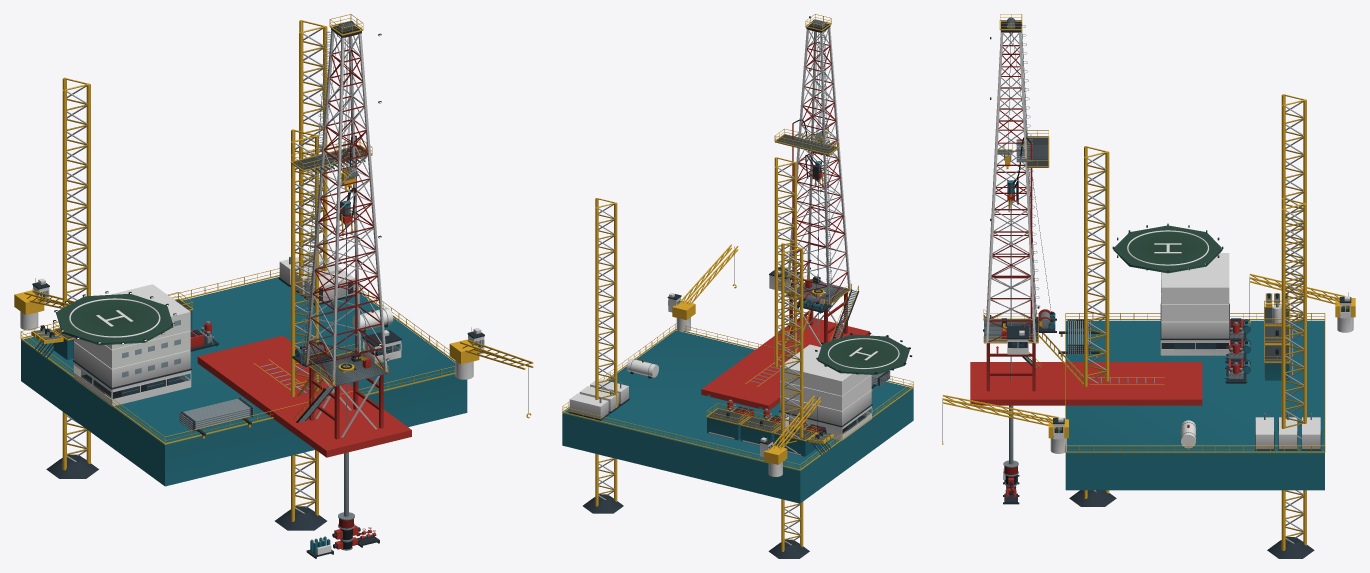
Rendered from jackup_lodh.glb.
3 renders of one model, left to right at view 1: azimuth 30°, elevation 25°; view 2: azimuth 150°, elevation 25°; view 3: azimuth 270°, elevation 25°, orthographic. The views are drawn at different scales.
Visible parts, largest first — view 1: hull_surface_blue, cantilever_surface_red, derrick_surface_white, accommodation_surface_white, helideck_surface_green, derrick_surface_red, leg_-18_-41_surface_yellow, leg_0_-12_surface_yellow, leg_18_-41_surface_yellow, deck_handrails_surface_yellow, generators_surface_white, pipe_rack_surface_steel (+14 smaller); view 2: hull_surface_blue, accommodation_surface_white, derrick_surface_white, cantilever_surface_red, leg_18_-41_surface_yellow, helideck_surface_green, leg_-18_-41_surface_yellow, derrick_surface_red, deck_handrails_surface_yellow, leg_0_-12_surface_yellow, generators_surface_white, mud_tanks_surface_blue (+16 smaller); view 3: hull_surface_blue, cantilever_surface_red, accommodation_surface_white, derrick_surface_white, leg_18_-41_surface_yellow, helideck_surface_green, leg_0_-12_surface_yellow, deck_handrails_surface_yellow, derrick_surface_red, leg_-18_-41_surface_yellow, generators_surface_white, deck_crane_1_surface_yellow (+18 smaller).
Part boxes in pixels (x1,y1,x2,y2): hull_surface_blue: (21, 276, 467, 486); cantilever_surface_red: (197, 335, 411, 457); derrick_surface_white: (305, 30, 387, 385); accommodation_surface_white: (73, 284, 191, 406); helideck_surface_green: (56, 294, 173, 345); derrick_surface_red: (308, 34, 384, 382); leg_-18_-41_surface_yellow: (62, 77, 90, 470); leg_0_-12_surface_yellow: (291, 129, 318, 521); leg_18_-41_surface_yellow: (299, 20, 327, 292); deck_handrails_surface_yellow: (20, 268, 455, 444); generators_surface_white: (279, 253, 354, 302); pipe_rack_surface_steel: (179, 398, 253, 430); hull_surface_blue: (562, 330, 913, 503); accommodation_surface_white: (779, 344, 872, 440); derrick_surface_white: (786, 27, 850, 304); cantilever_surface_red: (701, 316, 869, 410); leg_18_-41_surface_yellow: (595, 198, 617, 506); helideck_surface_green: (817, 334, 909, 374); leg_-18_-41_surface_yellow: (781, 243, 803, 551); derrick_surface_red: (788, 30, 848, 303); deck_handrails_surface_yellow: (562, 323, 913, 470); leg_0_-12_surface_yellow: (774, 157, 796, 367); generators_surface_white: (569, 379, 628, 419); mud_tanks_surface_blue: (707, 418, 815, 456); hull_surface_blue: (1065, 320, 1324, 490); cantilever_surface_red: (970, 362, 1202, 405); accommodation_surface_white: (1160, 253, 1229, 355); derrick_surface_white: (986, 31, 1035, 343); leg_18_-41_surface_yellow: (1281, 198, 1306, 550); helideck_surface_green: (1113, 225, 1222, 273); leg_0_-12_surface_yellow: (1084, 146, 1109, 498); deck_handrails_surface_yellow: (1065, 313, 1325, 452); derrick_surface_red: (988, 32, 1034, 341); leg_-18_-41_surface_yellow: (1281, 94, 1306, 322); generators_surface_white: (1255, 417, 1320, 448); deck_crane_1_surface_yellow: (942, 395, 1068, 444).
Bounding box in the file's own units: 54.84 × 77.66 × 60.59.
